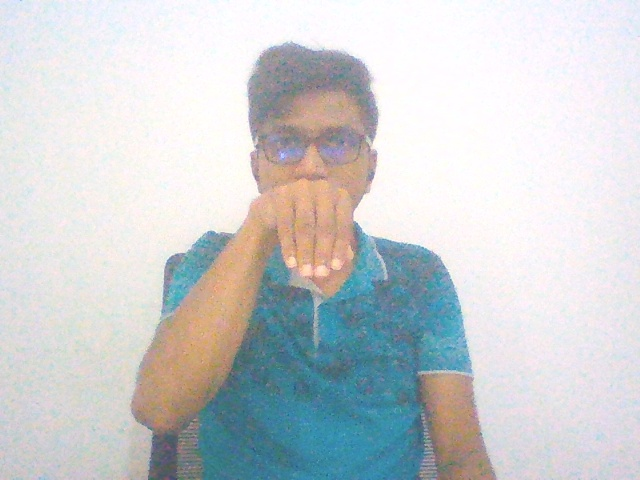Squirrel: (223, 155, 392, 310)
